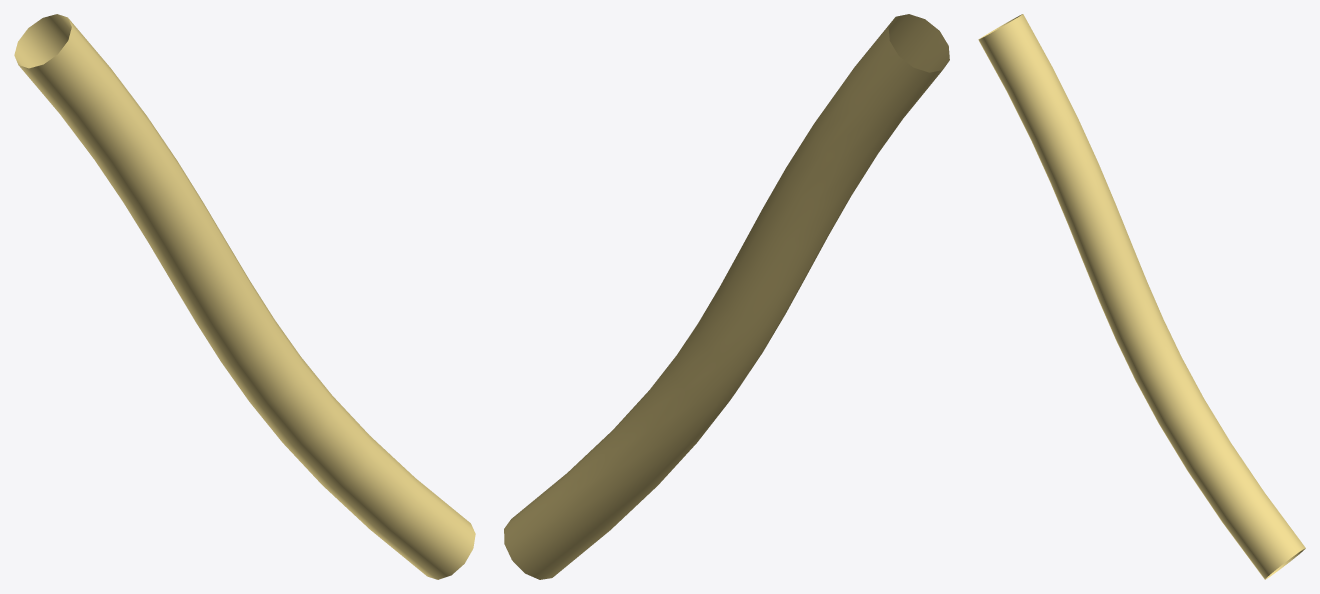
3 renders of one model, left to right at view 1: azimuth 30°, elevation 25°; view 2: azimuth 150°, elevation 25°; view 3: azimuth 330°, elevation 25°, orthographic. The views are drawn at different scales.
Parts seen in each view (by area): view 1: ZA_b9df4d2e8103939c; view 2: ZA_b9df4d2e8103939c; view 3: ZA_b9df4d2e8103939c.
Part boxes in pixels (box(x1,y1,x2,y2)): ZA_b9df4d2e8103939c: box(14, 14, 475, 579); ZA_b9df4d2e8103939c: box(504, 14, 949, 579); ZA_b9df4d2e8103939c: box(978, 14, 1305, 579).
Size of the model in its own units: 0.0145 by 0.0202 by 0.00304.
